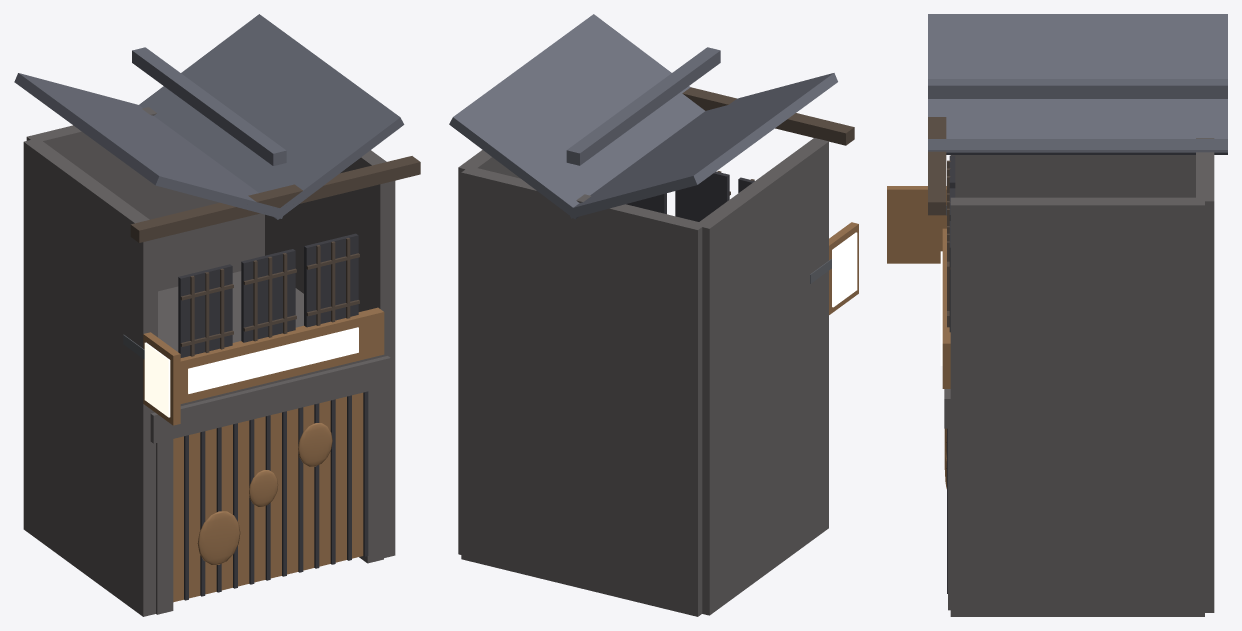
Rendered from prop_shop_haikyo.glb.
3 renders of one model, left to right at view 1: azimuth 30°, elevation 25°; view 2: azimuth 150°, elevation 25°; view 3: azimuth 270°, elevation 25°, orthographic. The views are drawn at different scales.
Visible parts, largest first — view 1: shop_haikyo; view 2: shop_haikyo; view 3: shop_haikyo.
Part boxes in pixels (x1,y1,x2,y2): shop_haikyo: (14,14,420,616); shop_haikyo: (449,14,858,616); shop_haikyo: (887,14,1227,616).
Size of the model in its own units: 3.8 by 5.77 by 3.75.
